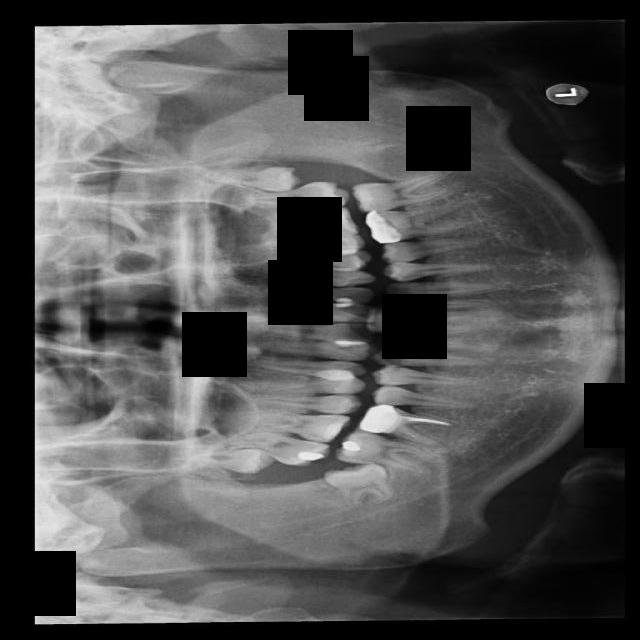3M ESPE Implant: (168, 448, 276, 473)
52: (298, 399, 354, 453), (333, 417, 384, 473), (358, 200, 409, 253), (270, 431, 335, 472), (357, 394, 405, 444), (327, 320, 377, 345), (323, 337, 372, 362), (328, 300, 379, 324), (335, 286, 374, 303)
73: (384, 406, 452, 448), (580, 65, 592, 66)
BioHorizons Implant: (242, 178, 350, 211)
BioLife Implant: (206, 163, 302, 192)
Blue Sky Bio Implant: (350, 168, 451, 215)
Caries: (224, 425, 334, 471)
Implant: (332, 425, 440, 475)
Keystone Dental Implant: (322, 458, 394, 510)
